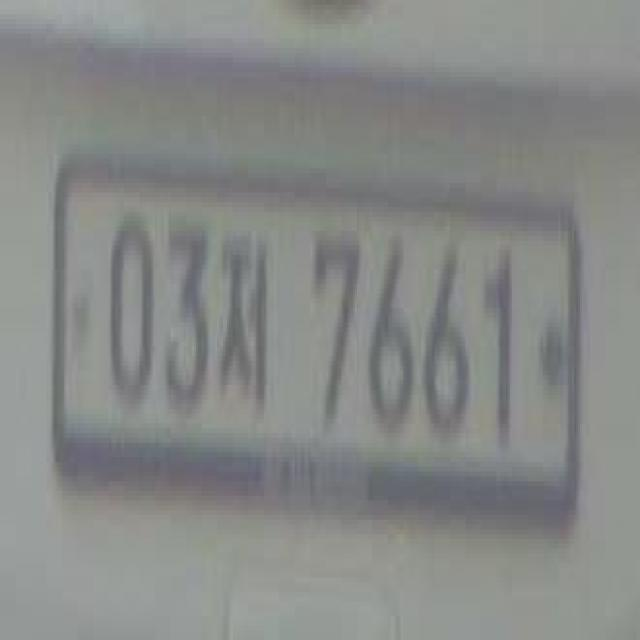illegal_plate: (53, 151, 585, 519)
